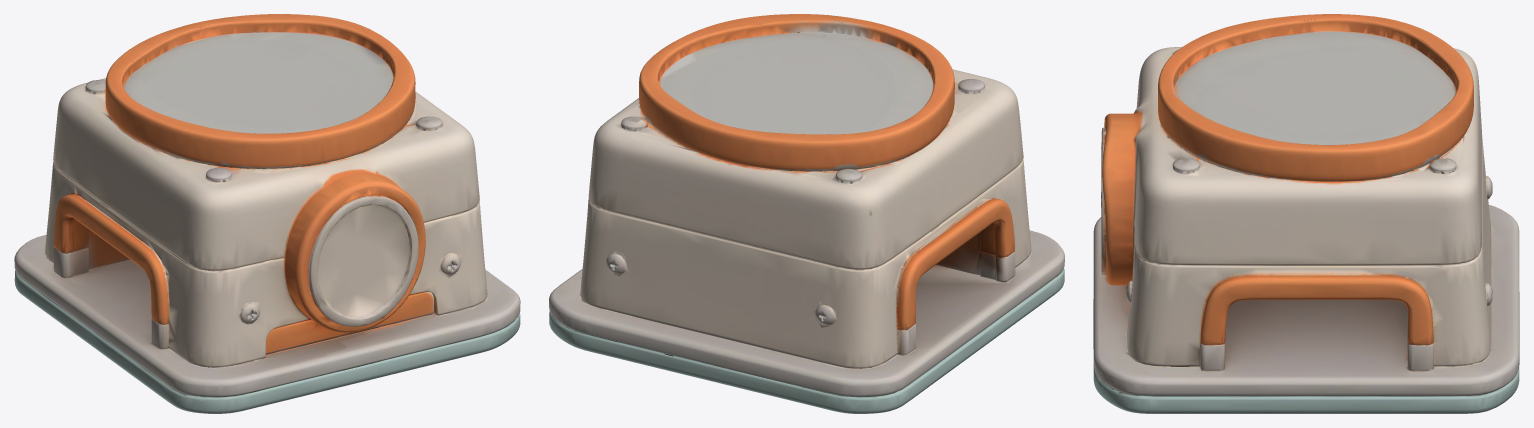
Rendered from mixer-base.glb.
The picture shows the model from 3 angles, left to right: view 1: azimuth 30°, elevation 25°; view 2: azimuth 150°, elevation 25°; view 3: azimuth 270°, elevation 25°; orthographic projection. The views are drawn at different scales.
Visible parts, largest first — view 1: mixer-base; view 2: mixer-base; view 3: mixer-base.
Boxes of the visible parts, x1,y1,x2,y2 form: mixer-base: (14,14,520,413); mixer-base: (549,14,1064,413); mixer-base: (1093,14,1519,413).
Size of the model in its own units: 1.12 by 0.7072 by 1.12.
1 material, 1 textured.
